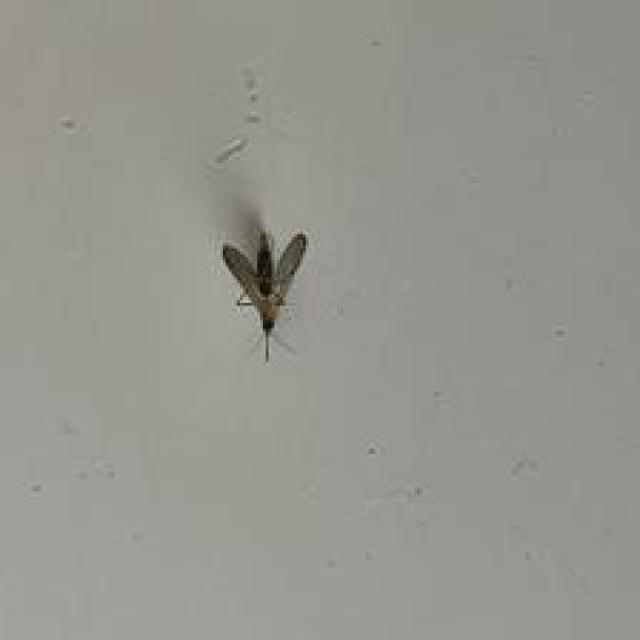Culex: (220, 227, 309, 362)
